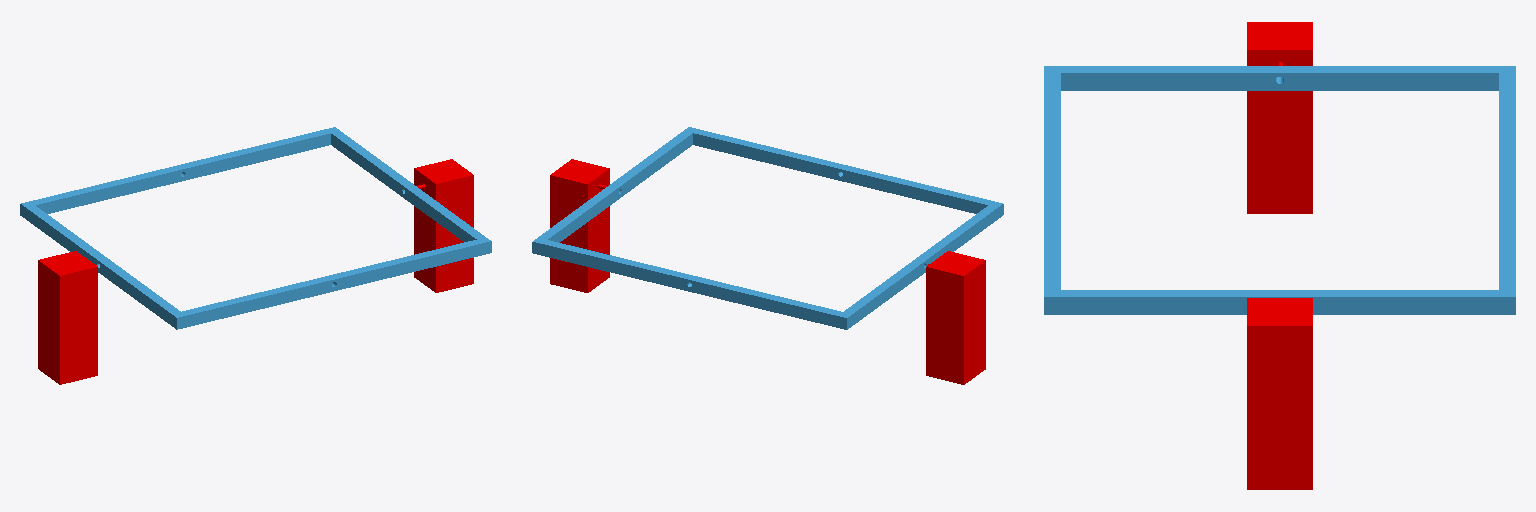
URDF robot description (Labyrinth):
<?xml version="1.0" encoding="UTF-8"?>
<robot name="Labyrinth">
  <link name="Support">
    <visual>
      <origin xyz="0. 0. 0." rpy="1.57 0. 0. "/>
      <geometry>
        <mesh filename="meshes/Support.STL" scale="1 1 1"/>
      </geometry>
      <material name="Red">
          <color rgba="1.0 0.0 0.0 1.0"/> <!-- RGB + Alpha (transparency) -->
      </material>
    </visual>
  </link>  

  <link name="OuterDOF">
    <visual>
      <origin xyz="0.0 0.0 -0.1" rpy="1.57 0. 0. "/>
      <geometry>
        <mesh filename="meshes/OuterDOF.STL" scale="1 1 1"/>
      </geometry>
    </visual>
  </link> 

  <link name="InnerDOF">
    <visual>
      <origin xyz="0.0 0.0 -0.1" rpy="1.57 0. 0. "/>
      <geometry>
        <mesh filename="meshes/InnerDOF.STL" scale="1 1 1"/>
      </geometry>
    </visual>
  </link> 

  <link name="InnerDOFWalls">
    <visual>
      <origin xyz="0.0 0.0 -0.1" rpy="1.57 0. 0. "/>
      <geometry>
        <mesh filename="meshes/InnerDOFWalls-Adjusted.STL" scale="1 1 1"/>
      </geometry>
      <material name="Black">
          <color rgba="0.0 0.0 0.0 1.0"/> <!-- RGB + Alpha (transparency) -->
      </material>
    </visual>
  </link> 

  <joint name="InnerDOF_RevoluteJoint" type="continuous">
    <origin xyz="0.0 0.0 0.0" rpy="0.0 0. 0."/>
    <parent link="OuterDOF"/>
    <child link="InnerDOF"/>
    <axis xyz="0. 1. 0."/>
    <limit lower="-0.26179" upper="0.26179" effort="100.0" velocity="100.0"/>
  </joint>

  <joint name="OuterDOF_RevoluteJoint" type="continuous">
    <origin xyz="0.0 0.0 0.1" rpy="0. 0. 0."/>
    <parent link="Support"/>
    <child link="OuterDOF"/>
    <axis xyz="1. 0. 0."/>
    <limit lower="-0.26179" upper="0.26179" effort="100.0" velocity="100.0"/>
  </joint>

  <joint name="FixedWallJoint" type="fixed">
    <origin xyz="0.0 0.0 0.0" rpy="0. 0. 0."/>
    <parent link="InnerDOF"/>
    <child link="InnerDOFWalls"/>
  </joint>
</robot>

--- Render facts (derived) ---
3 views of the same robot in one strip: view 1: azimuth 30°, elevation 25°; view 2: azimuth 150°, elevation 25°; view 3: azimuth 270°, elevation 25° (orthographic).
Model Labyrinth with 4 links and 3 joints (2 continuous, 1 fixed), rooted at Support, posed all joints at 0.
Visible links, largest first — view 1: OuterDOF, Support; view 2: OuterDOF, Support; view 3: OuterDOF, Support.
Link boxes in pixels (x1,y1,x2,y2): OuterDOF: [20, 127, 491, 329]; Support: [38, 159, 473, 384]; OuterDOF: [532, 127, 1003, 329]; Support: [550, 159, 985, 384]; OuterDOF: [1044, 66, 1515, 314]; Support: [1247, 22, 1312, 489].
Bounding box of the posed robot: 0.437 × 0.286 × 0.11 m (x, y, z).
Meshes: 4 distinct files referenced, 2 mesh visuals loaded (2 binary STL); not drawn: 2 (reference not matched to a file when rendering).
